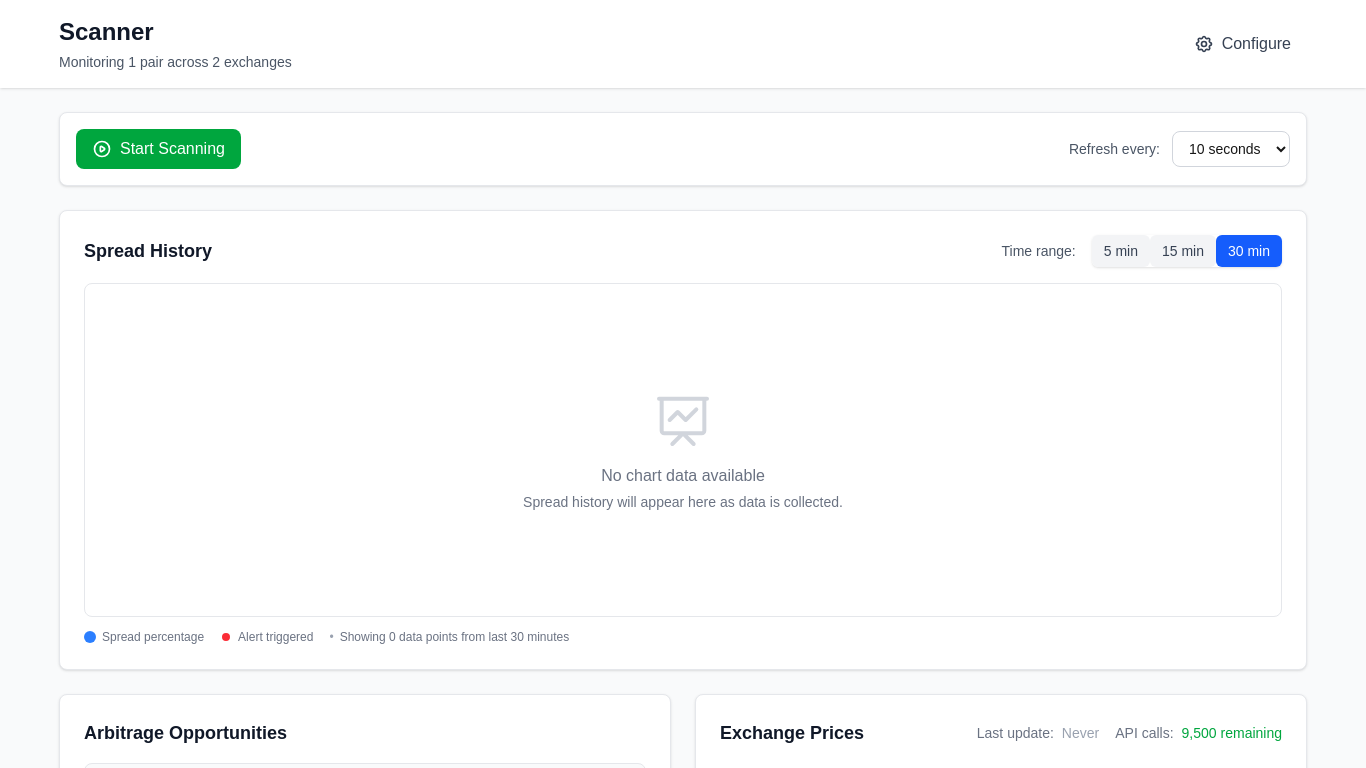
it: ScannerPage Integration › Full Scanner Workflow › should stop scanning when stop button clicked
The width and height of the screenshot is (1366, 768).
Start scanning
Click the button "Start Scanning". click: (158, 149)
box: x1=76 y1=129 x2=241 y2=169
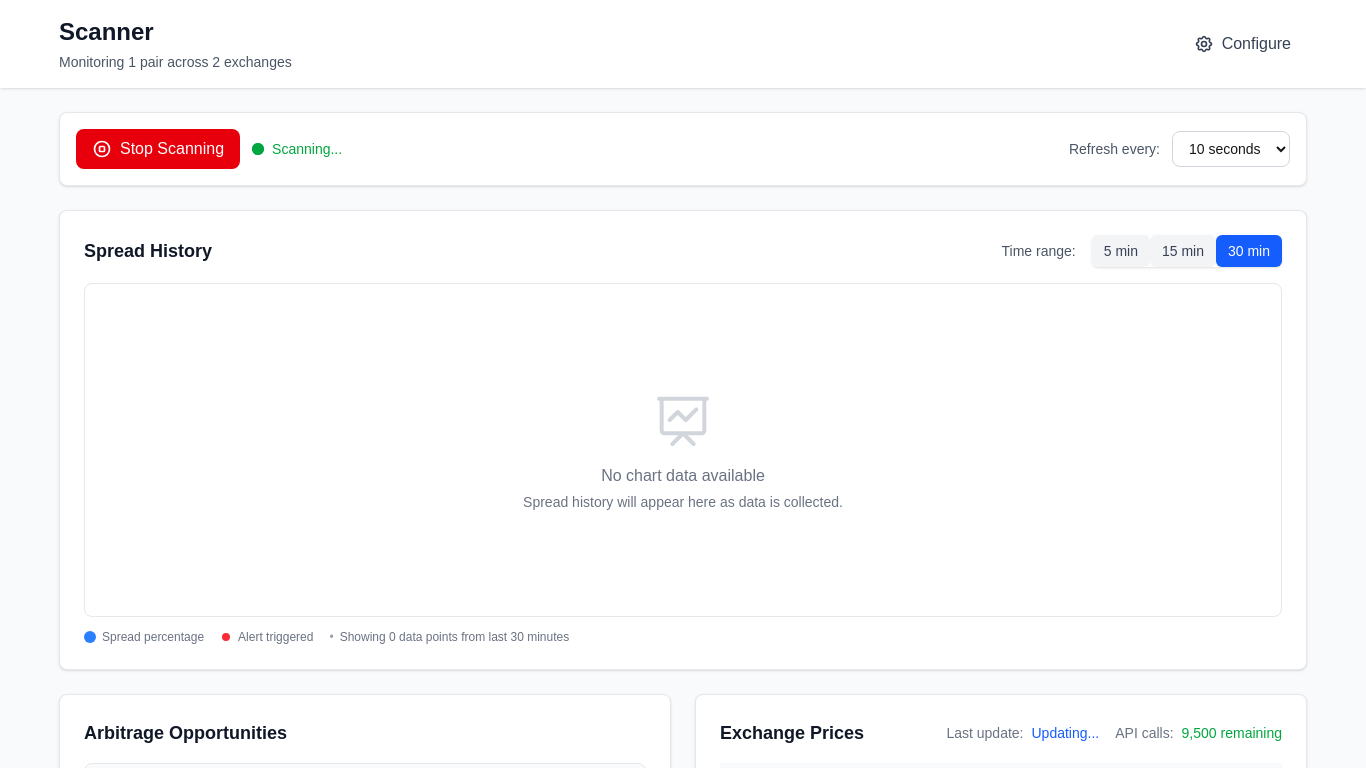
Expected: the button "Stop Scanning" is shown
Stop scanning
Click the button "Stop Scanning". click: (158, 149)
box: x1=76 y1=129 x2=240 y2=169
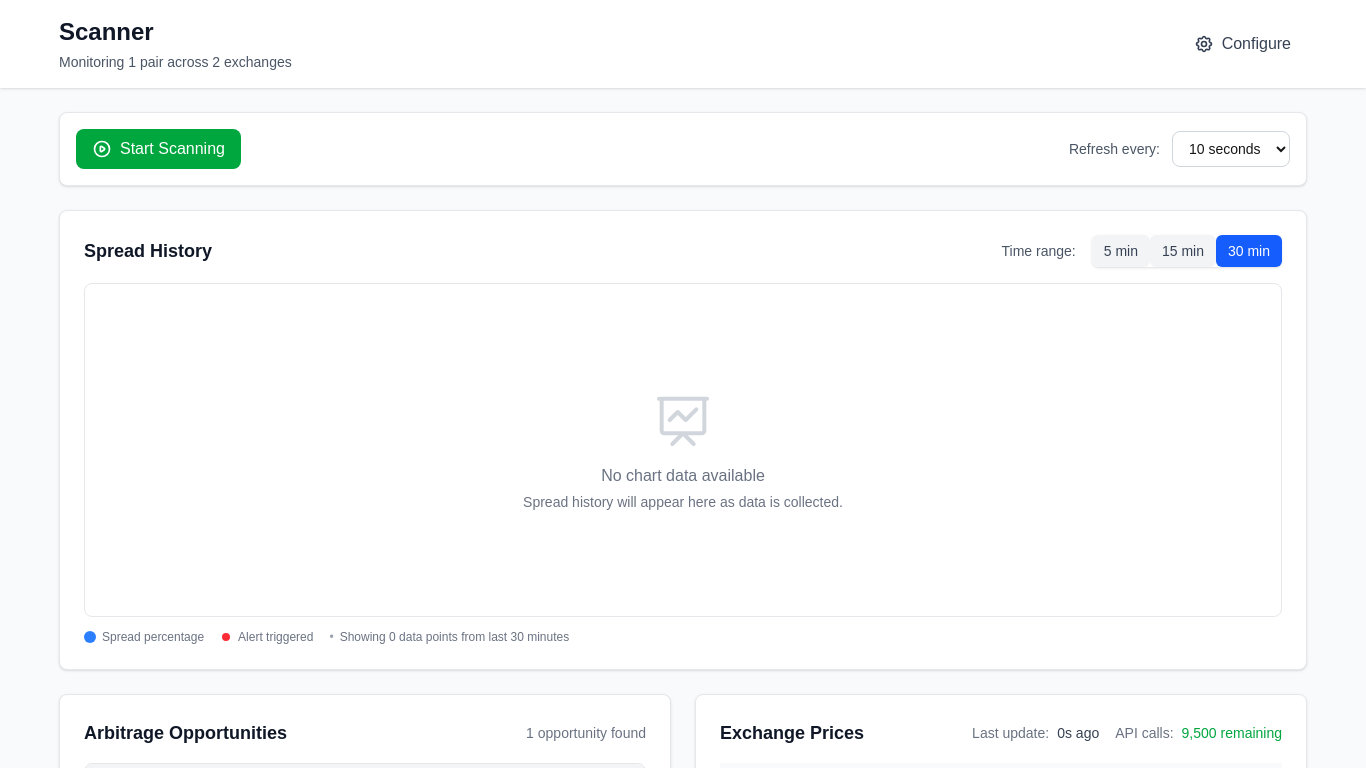
Expected: the text "Scanning..." is not shown
Expected: the button "Start Scanning" is shown, x1=76 y1=129 x2=241 y2=169
